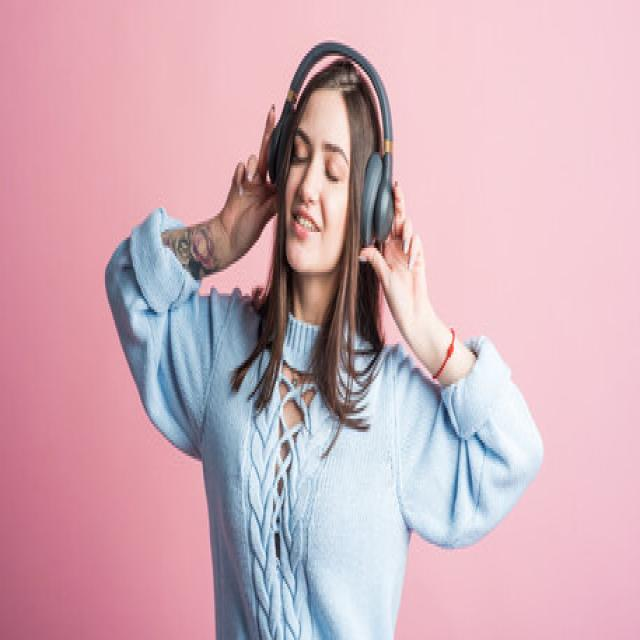Headphone: (266, 40, 394, 245)
